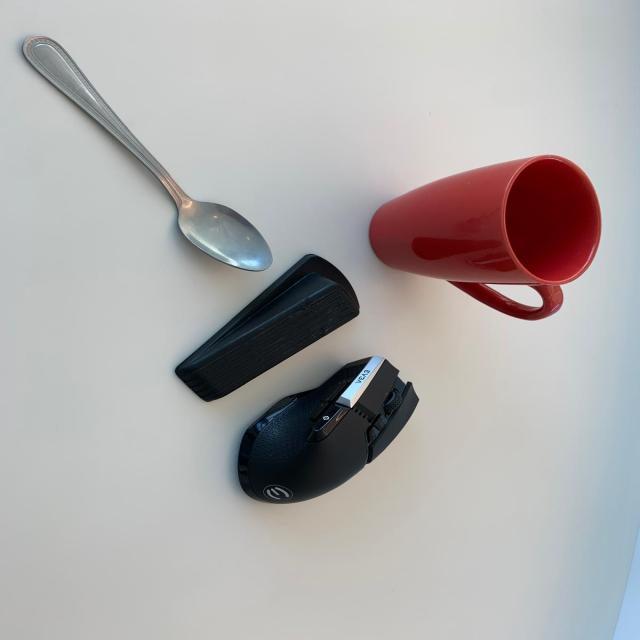Cup: (360, 131, 630, 328)
Mouse: (186, 354, 469, 503)
Spoon: (14, 28, 279, 290)
